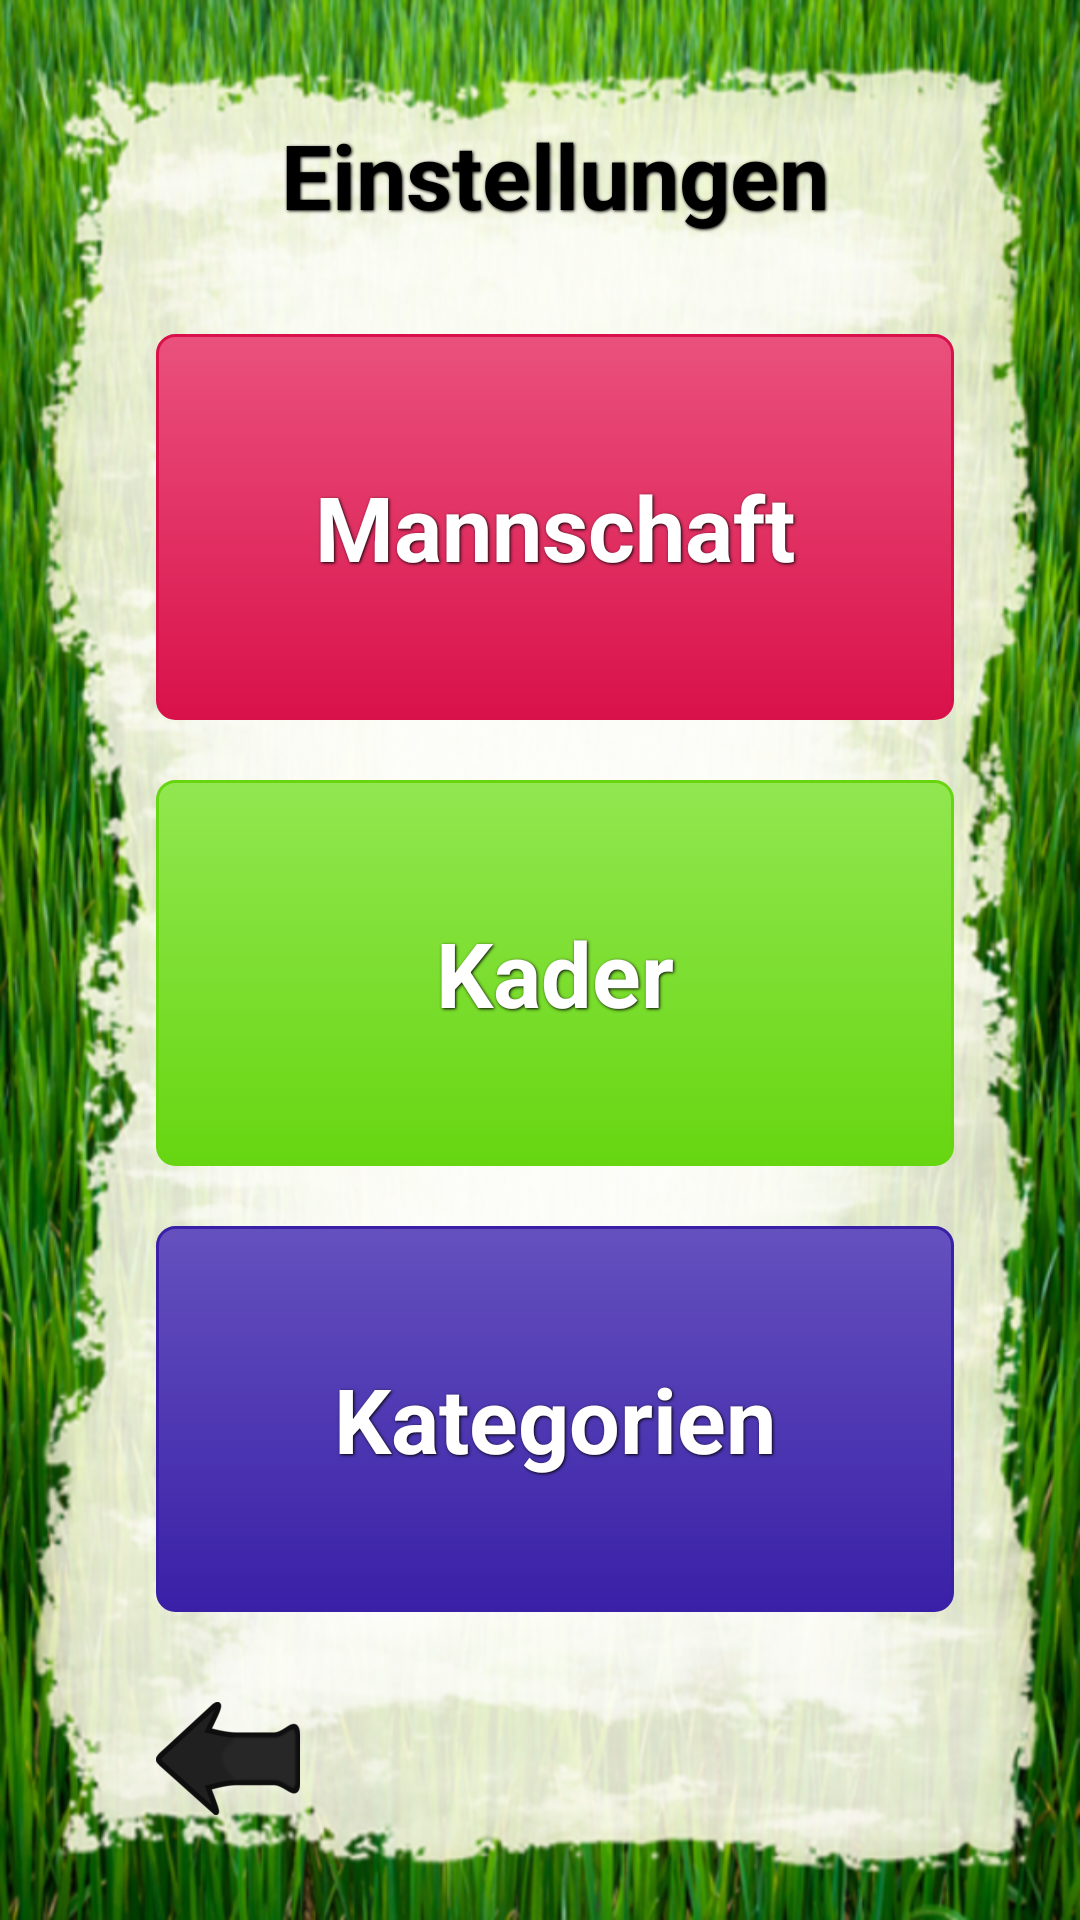

Screen size 1080w x 1920h. Icon name, then its box in pixels as (x1, y1, x2, y2):
zurueck: (156, 1702, 300, 1815)
